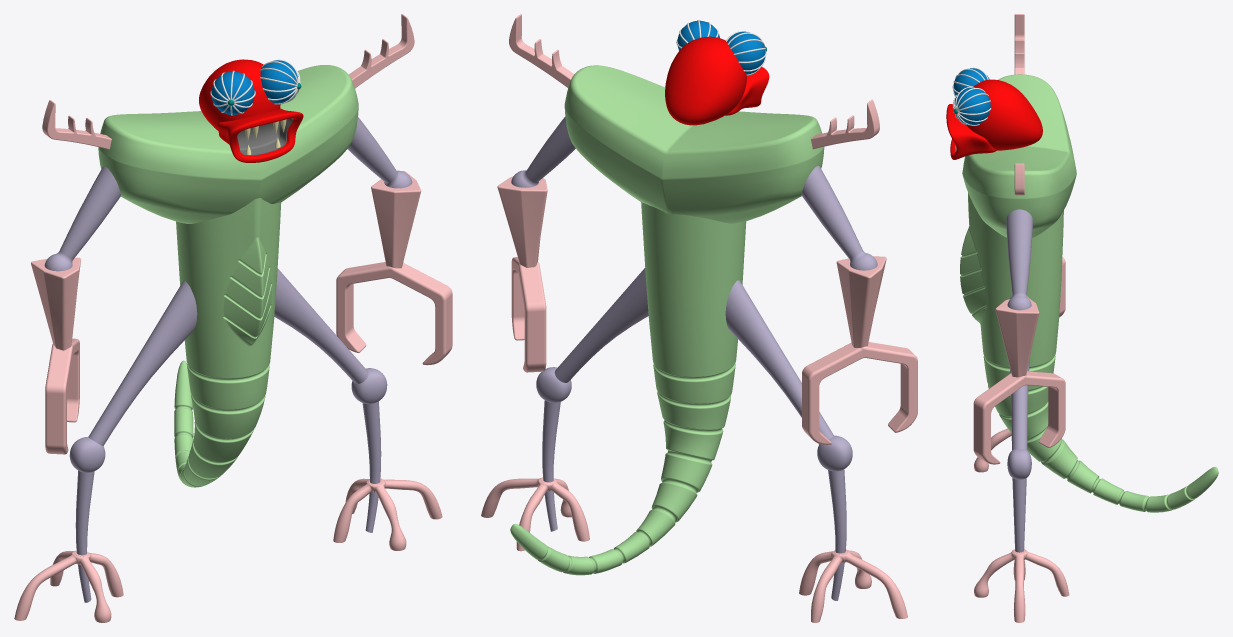
3 renders of one model, left to right at view 1: azimuth 30°, elevation 25°; view 2: azimuth 150°, elevation 25°; view 3: azimuth 270°, elevation 25°, orthographic. The views are drawn at different scales.
Parts seen in each view (by area): view 1: 026_voltes_enemy_200; view 2: 026_voltes_enemy_200; view 3: 026_voltes_enemy_200.
Boxes of the visible parts, x1,y1,x2,y2 form: 026_voltes_enemy_200: (14, 14, 452, 622); 026_voltes_enemy_200: (481, 14, 917, 622); 026_voltes_enemy_200: (946, 14, 1218, 622).
Size of the model in its own units: 0.1724 by 0.2009 by 0.1094.
